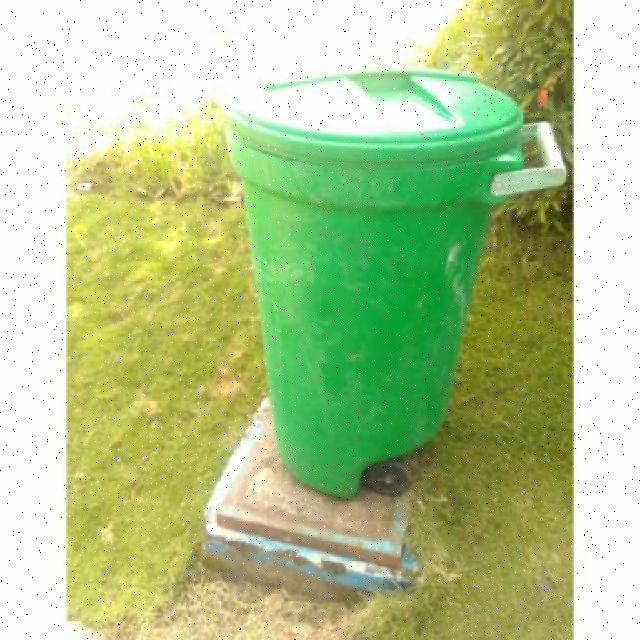garbage container: (211, 57, 577, 511)
